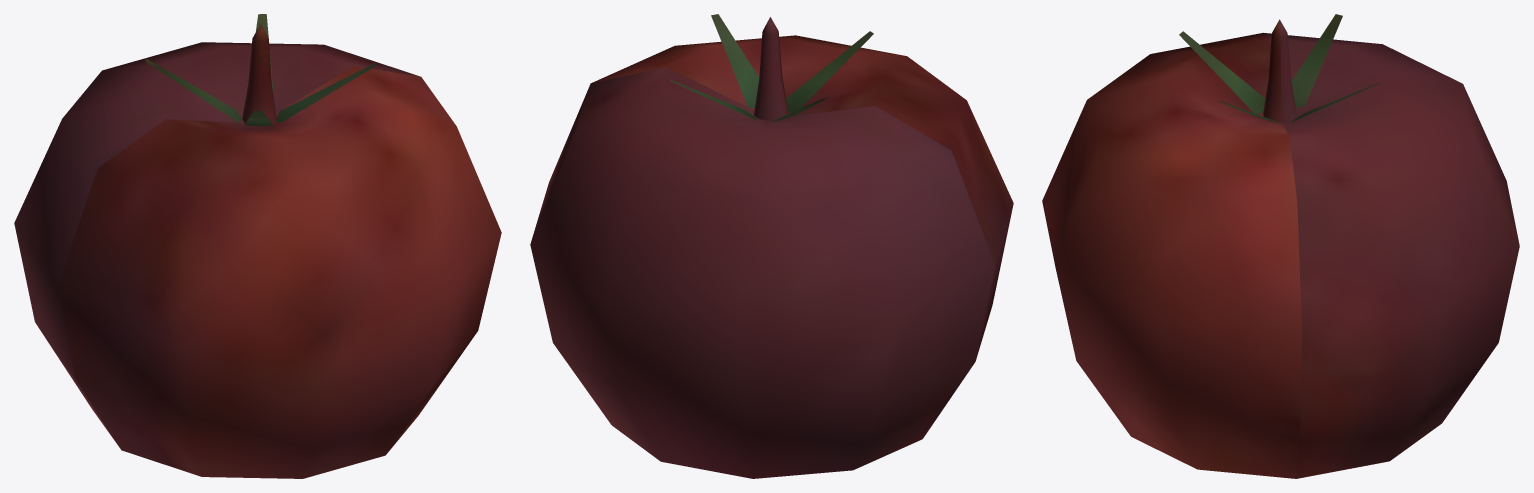
The model's file is tomato.fbx.
3 views of the same model, side by side, from view 1: azimuth 30°, elevation 25°; view 2: azimuth 150°, elevation 25°; view 3: azimuth 270°, elevation 25° (orthographic).
Parts seen in each view (by area): view 1: Strove.001; view 2: Strove.001; view 3: Strove.001.
Part boxes in pixels (bbox=[...]): Strove.001: bbox=[14, 14, 501, 478]; Strove.001: bbox=[530, 14, 1013, 478]; Strove.001: bbox=[1042, 14, 1519, 478].
Size of the model in its own units: 7.62 by 7.37 by 7.45.
Materials: 1 (1 with a texture image).
